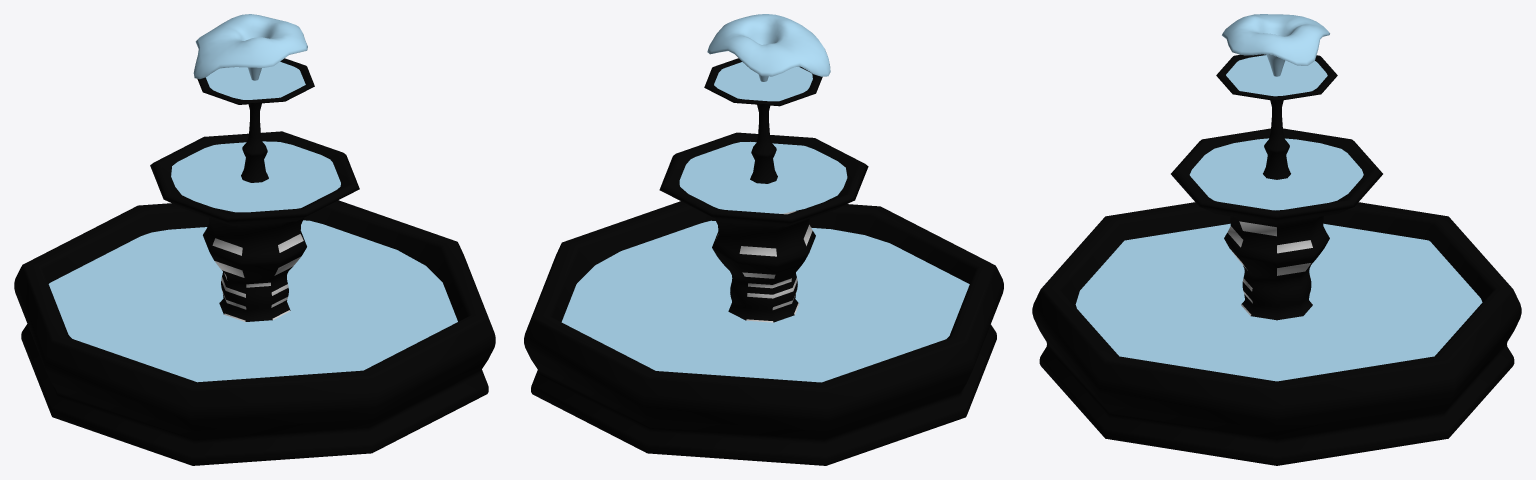
Rendered from fuente.obj.
3 renders of one model, left to right at view 1: azimuth 30°, elevation 25°; view 2: azimuth 150°, elevation 25°; view 3: azimuth 270°, elevation 25°, orthographic.
Visible parts, largest first — view 1: fuente:Mesh; view 2: fuente:Mesh; view 3: fuente:Mesh.
Part boxes in pixels (x1,y1,x2,y2): fuente:Mesh: (14,14,495,465); fuente:Mesh: (524,14,1003,465); fuente:Mesh: (1032,14,1521,465).
Size of the model in its own units: 12.82 by 9.99 by 12.82.
